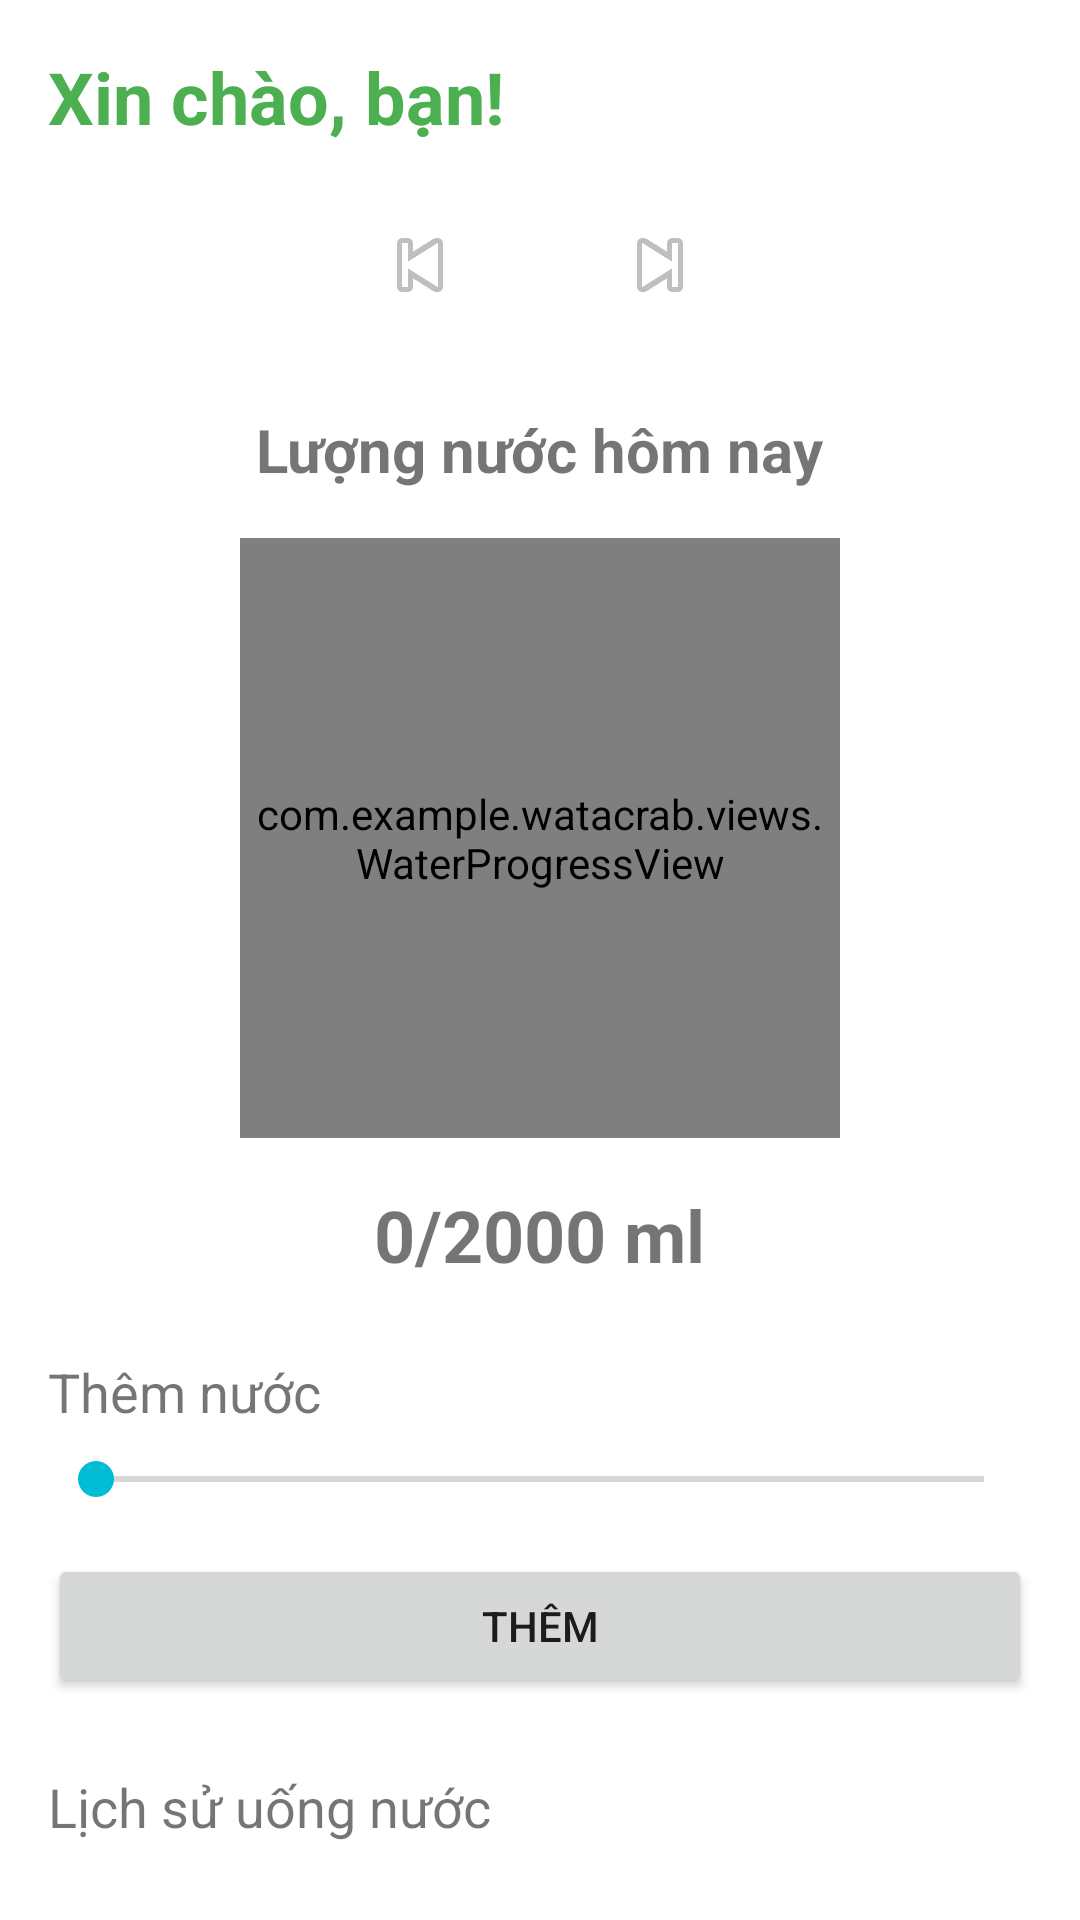

Icons on this 1080*1920 Android screen, each with its box as (x1, y1, x2, y2):
next: (637, 238, 683, 292)
previous: (397, 238, 443, 292)
